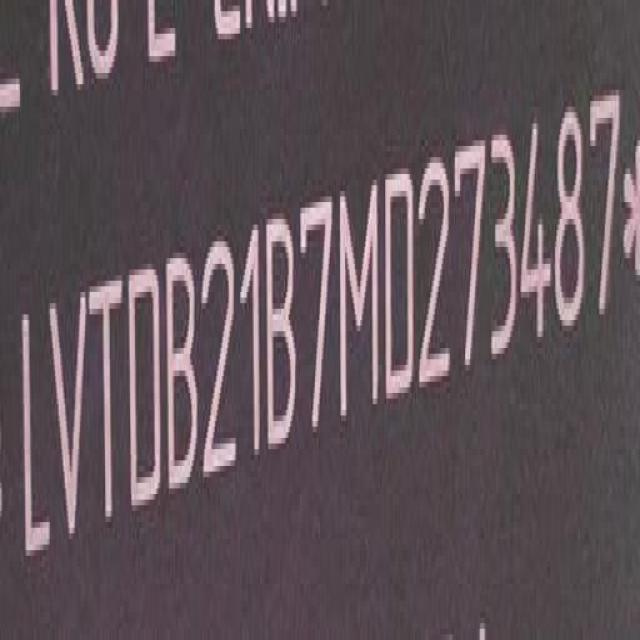1: (239, 222, 264, 458)
2: (200, 235, 240, 470), (416, 156, 455, 391)
3: (487, 125, 519, 362)
4: (519, 120, 550, 358)
7: (589, 88, 624, 328), (451, 133, 485, 376), (302, 198, 334, 432)
8: (551, 106, 585, 347)
B: (162, 245, 198, 491), (265, 218, 299, 458)
D: (129, 264, 165, 505), (381, 158, 415, 401)
L: (22, 306, 52, 568)
M: (336, 181, 383, 424)
T: (88, 280, 124, 518)
V: (48, 283, 88, 547)
